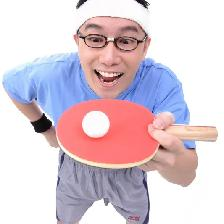WhiteBall: (81, 110, 110, 137)
